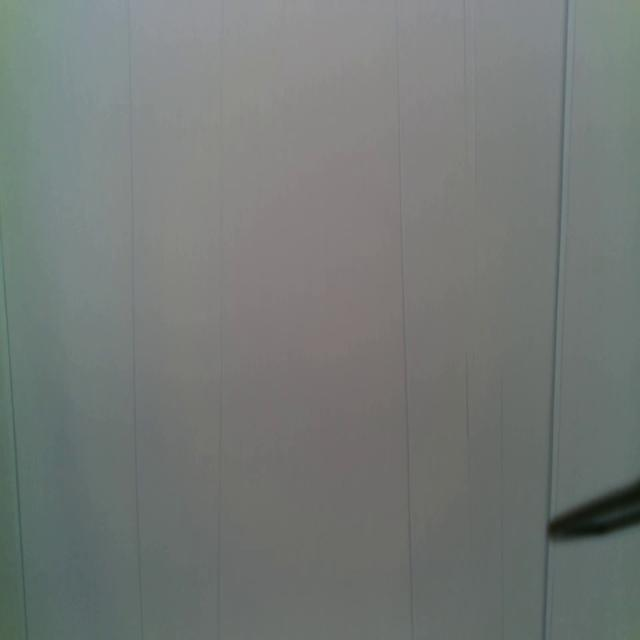crease: (546, 0, 578, 508), (394, 0, 415, 640), (0, 208, 29, 640), (126, 0, 144, 640), (214, 0, 225, 638), (463, 354, 478, 560), (499, 373, 507, 640), (471, 0, 479, 179), (541, 542, 555, 640), (462, 0, 470, 166)
